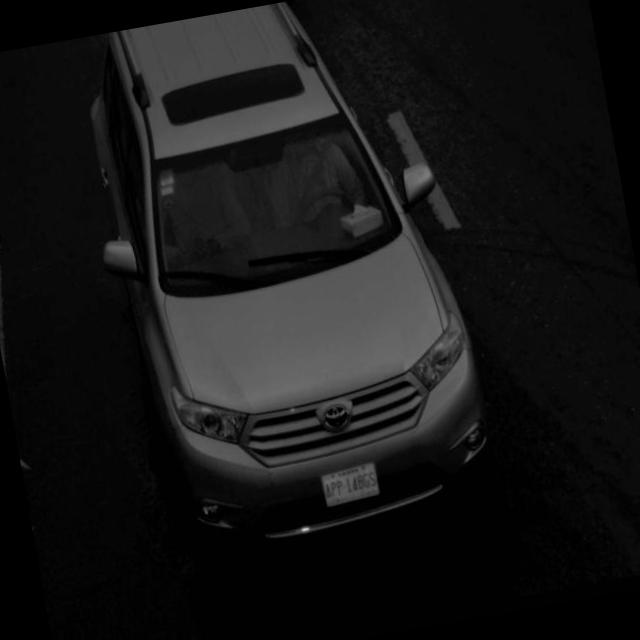person_with_seatbelt: (258, 125, 370, 246)
